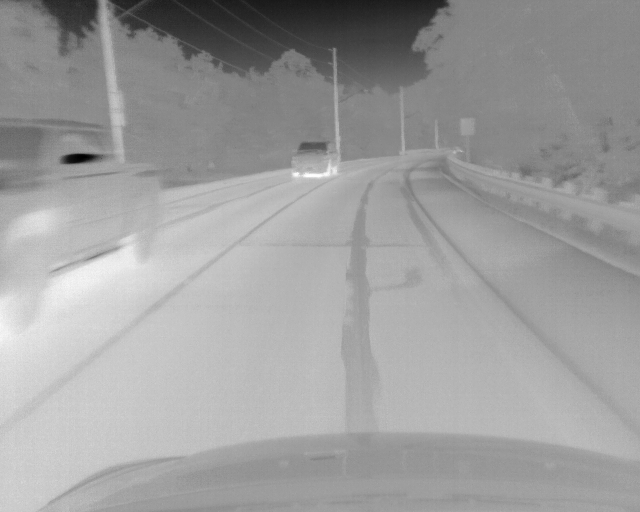car: (1, 118, 163, 331), (290, 138, 339, 181)
